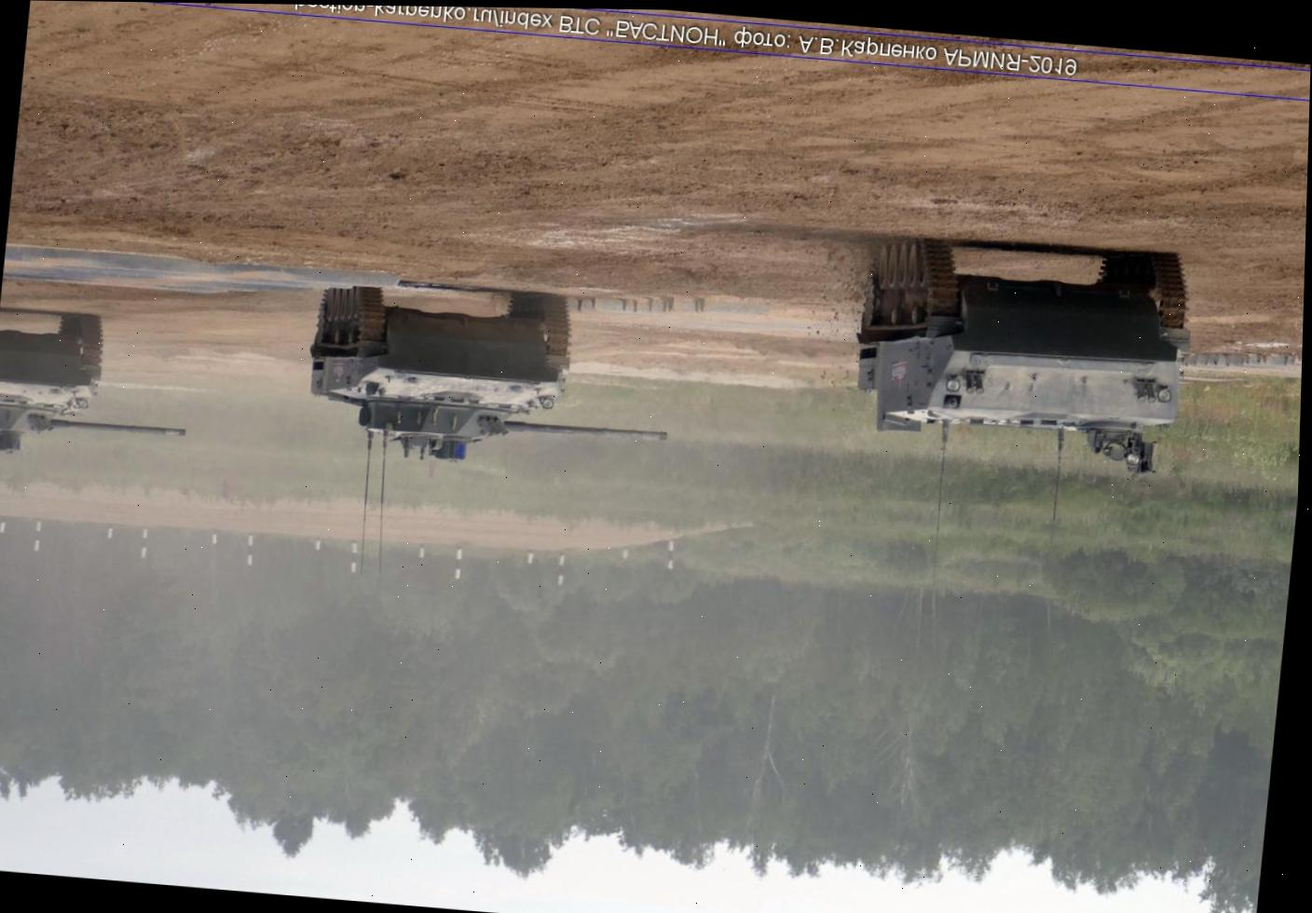tank: (843, 229, 1203, 481), (300, 280, 684, 480), (0, 306, 197, 469)
